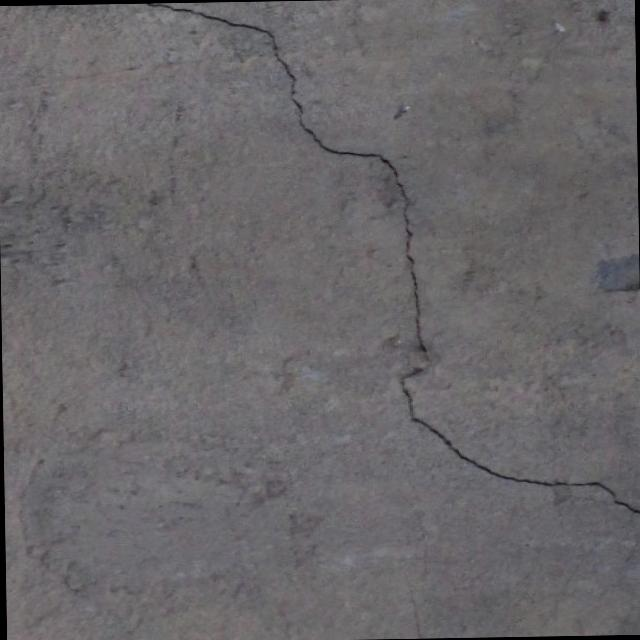crack: (338, 87, 640, 522), (144, 2, 338, 158)
